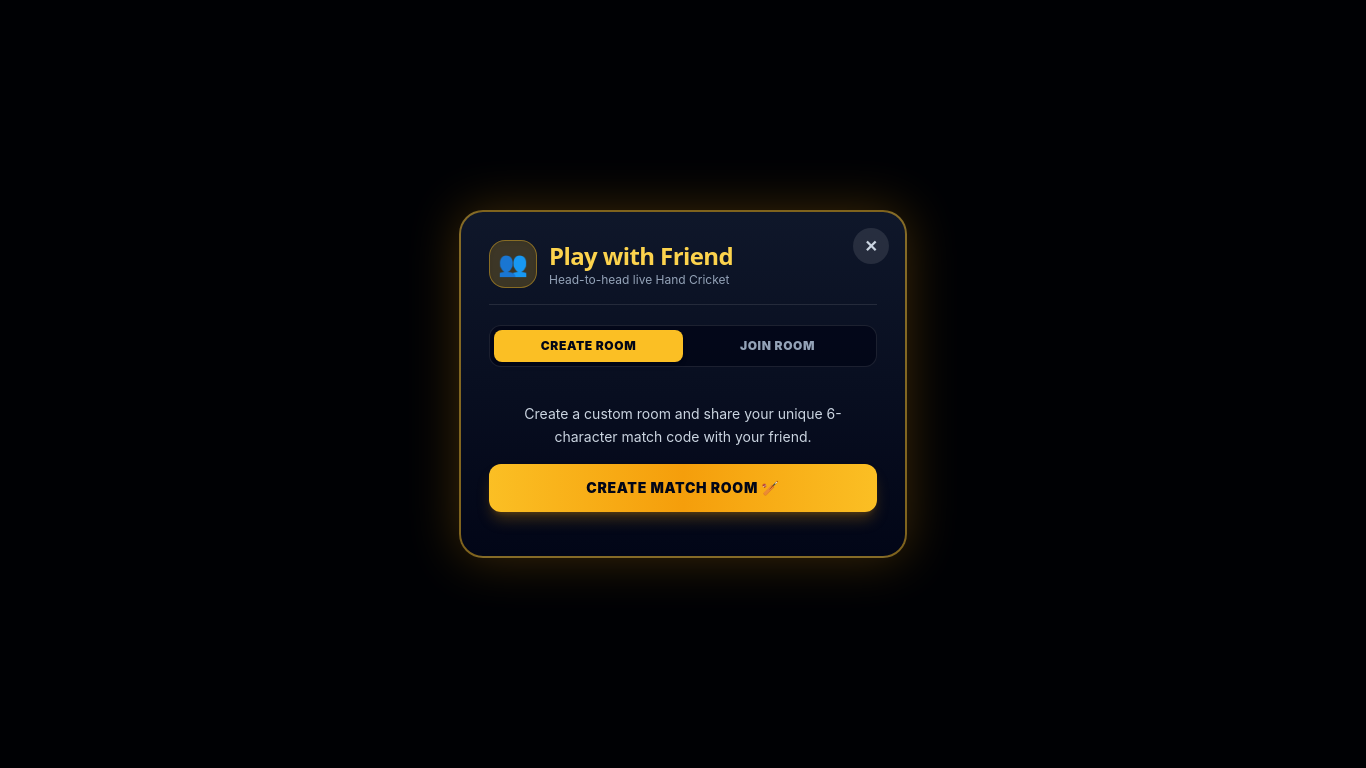
Test: Friend Mode Frontend Tests (Sub-slice 15E) › 2. Friend Lobby Modal › shows error message if room creation fails
Click the button "CREATE MATCH ROOM 🏏" at (683, 488), box [489,464,877,512]
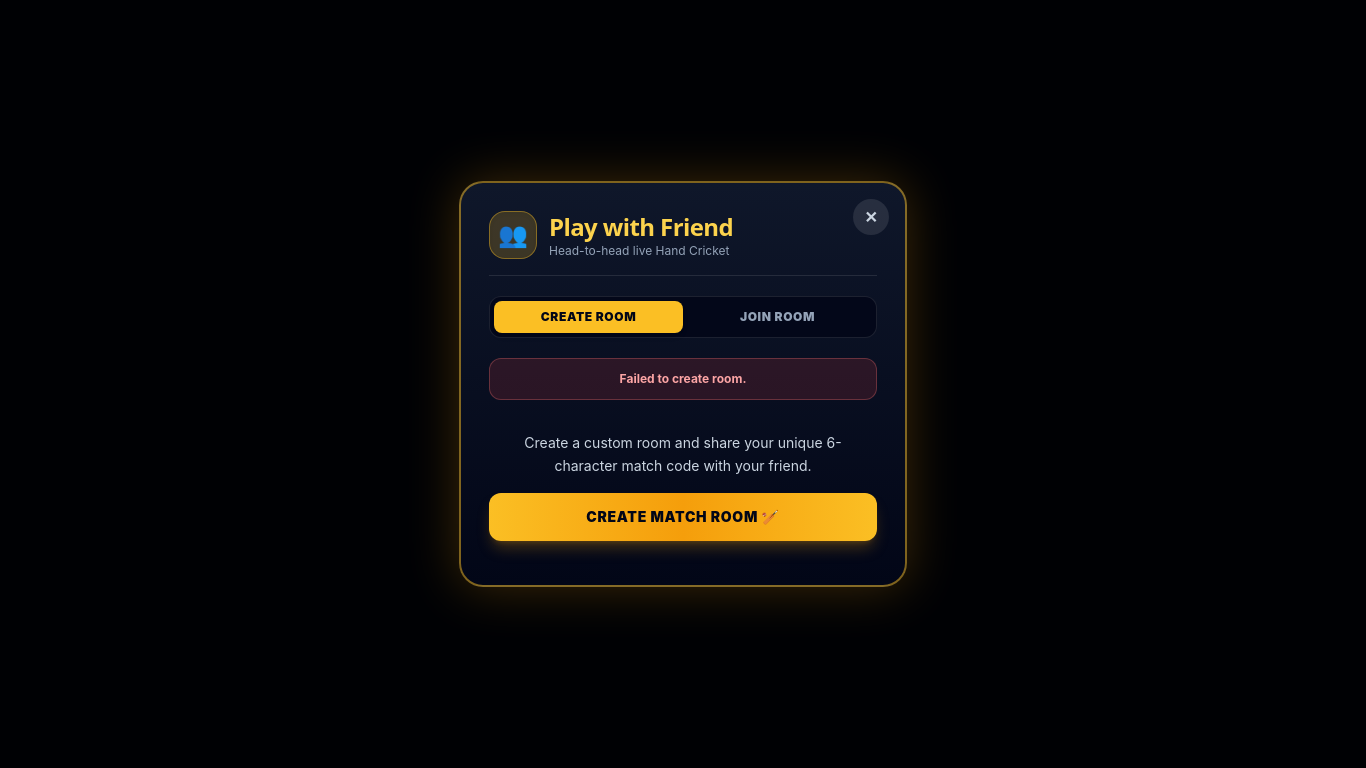
Expected: the text "Failed to create room." is shown, [489,358,877,400]
